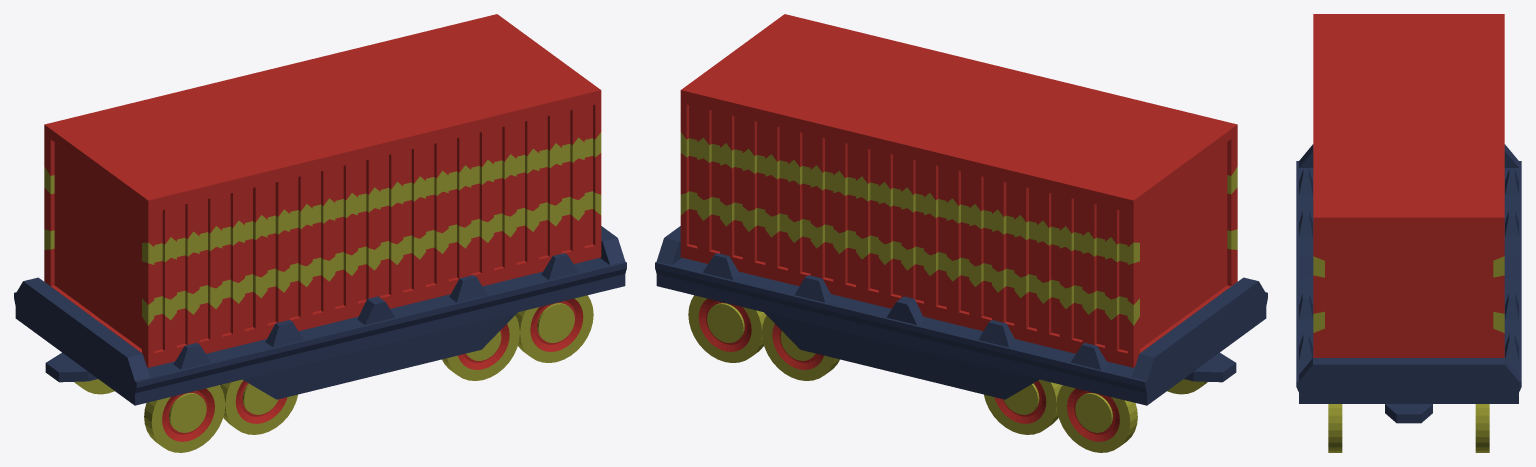
File: CargoWheels01.fbx
3 renders of one model, left to right at view 1: azimuth 30°, elevation 25°; view 2: azimuth 150°, elevation 25°; view 3: azimuth 270°, elevation 25°, orthographic. The views are drawn at different scales.
Visible parts, largest first — view 1: CargoWheels01; view 2: CargoWheels01; view 3: CargoWheels01.
Part boxes in pixels (bbox=[...]): CargoWheels01: bbox=[14, 14, 626, 452]; CargoWheels01: bbox=[655, 14, 1267, 452]; CargoWheels01: bbox=[1296, 14, 1521, 452].
Size of the model in its own units: 856 by 411 by 339.
